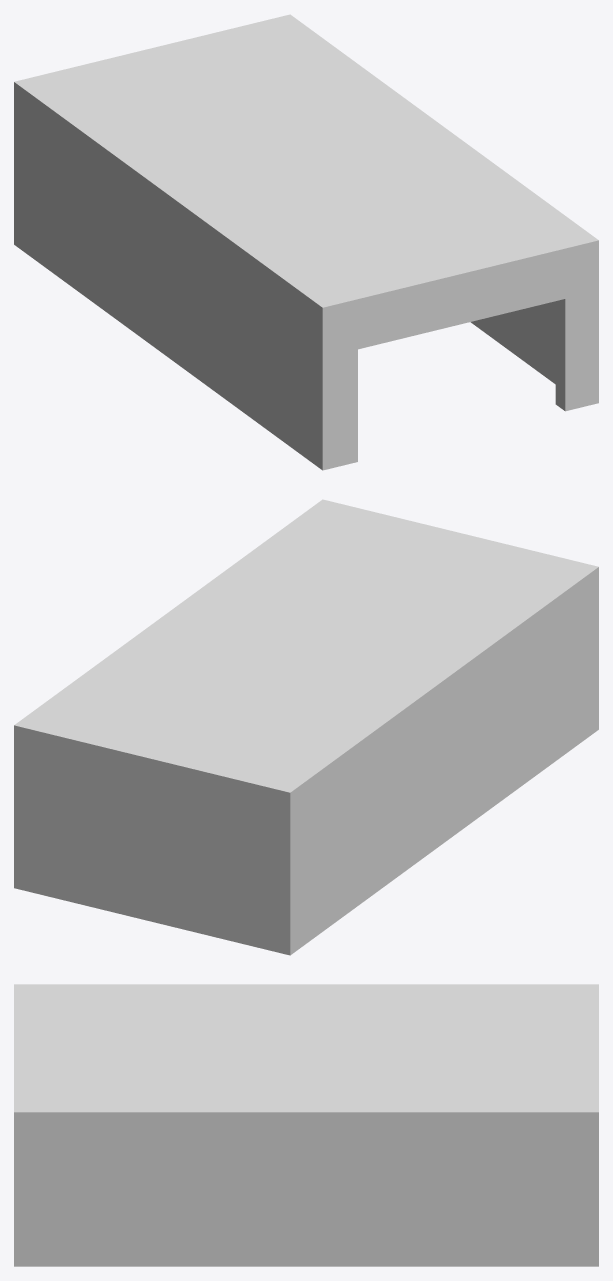
The model's file is restaurant.fbx.
3 views of the same model, one above another, from view 1: azimuth 30°, elevation 25°; view 2: azimuth 150°, elevation 25°; view 3: azimuth 270°, elevation 25° (orthographic). The views are drawn at different scales.
Parts seen in each view (by area): view 1: Restaurant; view 2: Restaurant; view 3: Restaurant.
Boxes of the visible parts, x1,y1,x2,y2 form: Restaurant: (14,14,598,470); Restaurant: (14,499,598,955); Restaurant: (14,984,598,1266).
Bounding box in the file's own units: 1783 × 1004 × 3451.
1 material, 1 textured.
